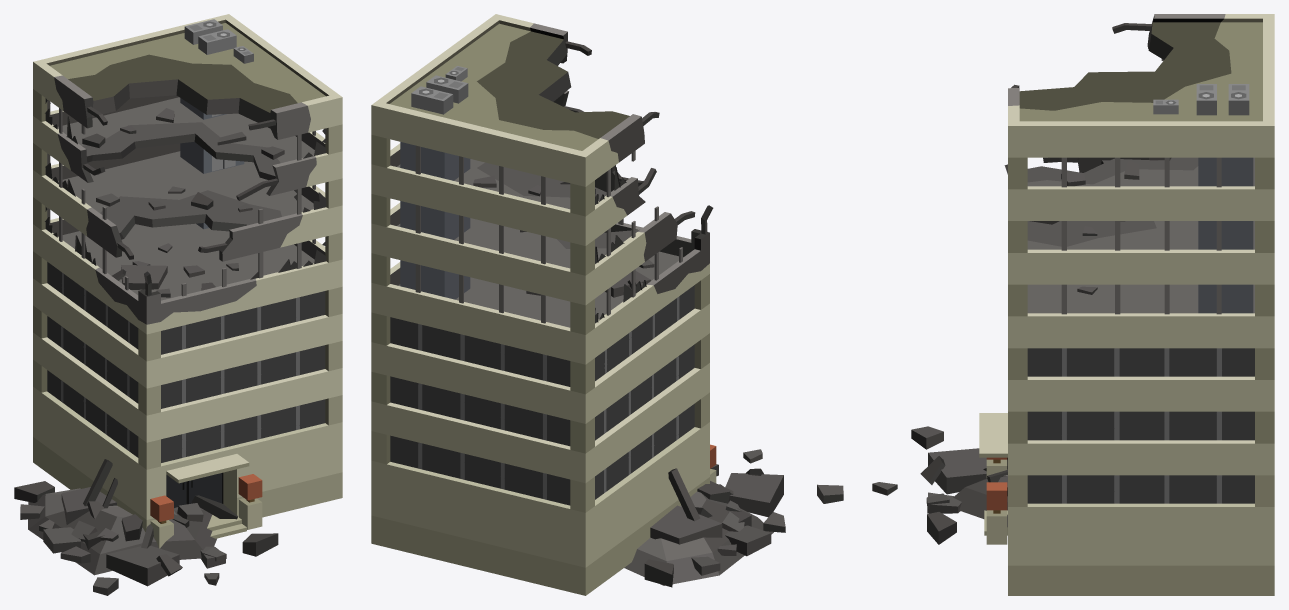
Rendered from SA_Bld_Office_Damaged_01.gltf.
3 views of the same model, side by side, from view 1: azimuth 30°, elevation 25°; view 2: azimuth 150°, elevation 25°; view 3: azimuth 270°, elevation 25° (orthographic). The views are drawn at different scales.
Visible parts, largest first — view 1: SA_Bld_Office_Damaged_01; view 2: SA_Bld_Office_Damaged_01; view 3: SA_Bld_Office_Damaged_01.
Boxes of the visible parts, left/top/right/bottom form: SA_Bld_Office_Damaged_01: left=14, top=14, right=342, bottom=595; SA_Bld_Office_Damaged_01: left=371, top=14, right=843, bottom=595; SA_Bld_Office_Damaged_01: left=872, top=14, right=1274, bottom=595.
Size of the model in its own units: 19.73 by 28.16 by 20.67.
1 material, 1 textured.
